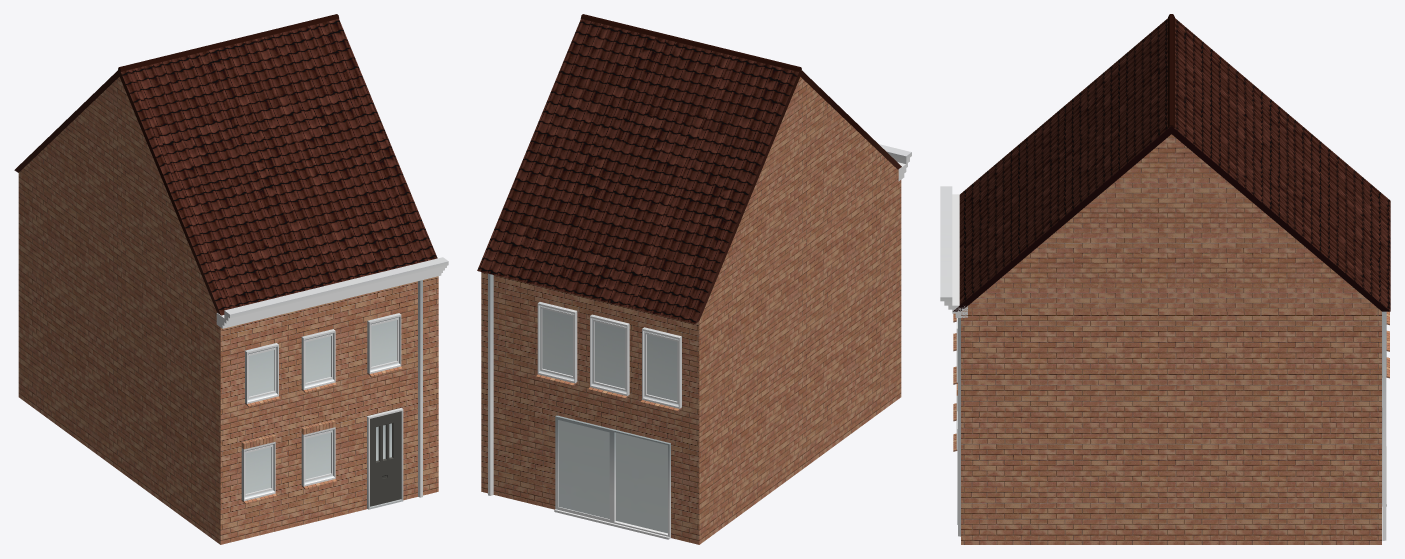
File: Buorkerij_69.fbx
The picture shows the model from 3 angles, left to right: view 1: azimuth 30°, elevation 25°; view 2: azimuth 150°, elevation 25°; view 3: azimuth 270°, elevation 25°; orthographic projection. The views are drawn at different scales.
Parts seen in each view (by area): view 1: Buorkerij_69; view 2: Buorkerij_69; view 3: Buorkerij_69.
Boxes of the visible parts, x1,y1,x2,y2 form: Buorkerij_69: (14, 14, 448, 544); Buorkerij_69: (477, 14, 911, 544); Buorkerij_69: (940, 14, 1390, 544).
Bounding box in the file's own units: 592 × 1044 × 1015.
